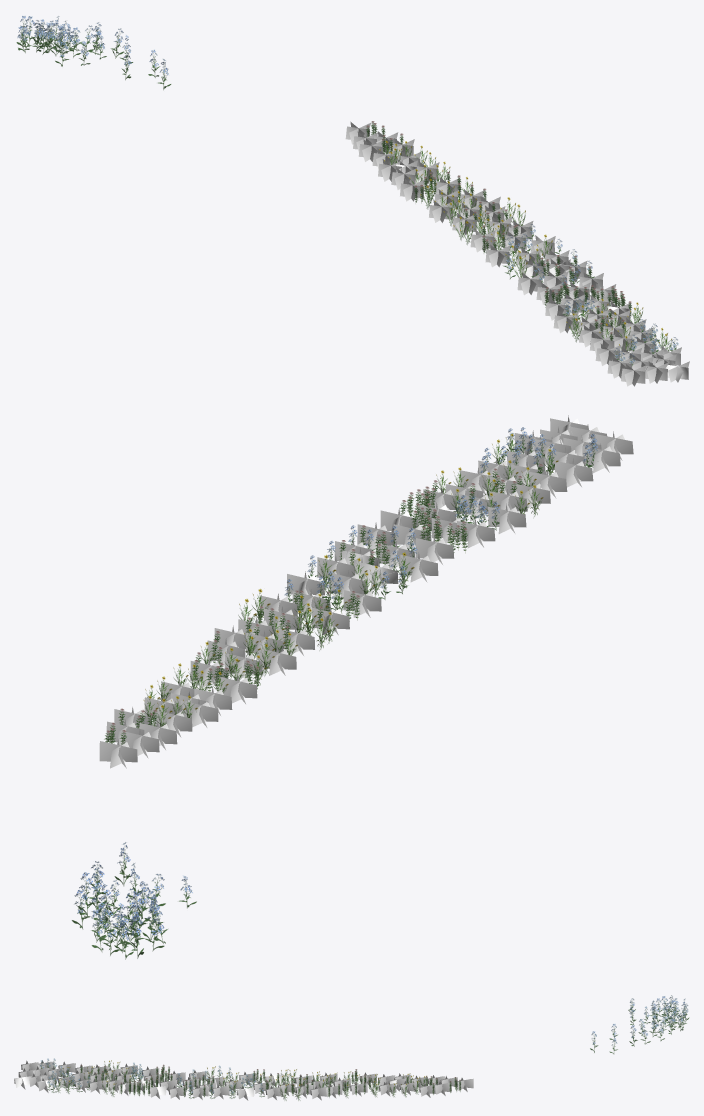
The model's file is flower_grass_b.glb.
3 views of the same model, one above another, from view 1: azimuth 30°, elevation 25°; view 2: azimuth 150°, elevation 25°; view 3: azimuth 270°, elevation 25° (orthographic). The views are drawn at different scales.
Parts seen in each view (by area): view 1: stk_grassAlpha.png__, Flower3.png__, BlackEyedSusan.png__, Flower5.png__, Flower3F.png__; view 2: stk_grassAlpha.png__, Flower3.png__, BlackEyedSusan.png__, Flower5.png__, Flower3F.png__; view 3: stk_grassAlpha.png__, Flower3.png__, BlackEyedSusan.png__, Flower5.png__, Flower3F.png__.
Part boxes in pixels (x1,y1,x2,y2): stk_grassAlpha.png__: (345, 121, 689, 386); Flower3.png__: (16, 16, 677, 365); BlackEyedSusan.png__: (379, 141, 671, 351); Flower5.png__: (366, 121, 631, 340); Flower3F.png__: (17, 16, 678, 363); stk_grassAlpha.png__: (99, 415, 633, 768); Flower3.png__: (72, 427, 597, 959); BlackEyedSusan.png__: (143, 433, 558, 726); Flower5.png__: (104, 464, 543, 744); Flower3F.png__: (74, 427, 597, 940); stk_grassAlpha.png__: (14, 1060, 473, 1100); Flower3.png__: (40, 995, 689, 1098); BlackEyedSusan.png__: (54, 1060, 426, 1100); Flower5.png__: (80, 1065, 460, 1097); Flower3F.png__: (40, 996, 688, 1093).
Size of the model in its own units: 30.72 by 7.43 by 117.
6 materials, 5 textured.
